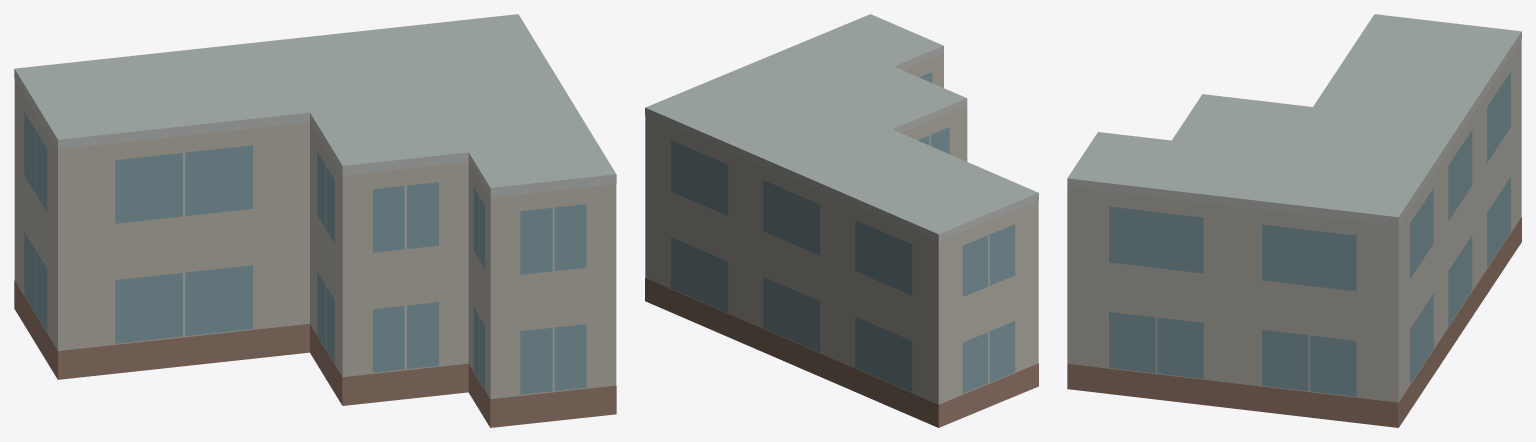
File: survey-upis-32889468.glb
3 views of the same model, side by side, from view 1: azimuth 30°, elevation 25°; view 2: azimuth 150°, elevation 25°; view 3: azimuth 270°, elevation 25° (orthographic). The views are drawn at different scales.
Parts seen in each view (by area): view 1: survey-upis-32889468.tmp; view 2: survey-upis-32889468.tmp; view 3: survey-upis-32889468.tmp.
Part boxes in pixels (x1=…): survey-upis-32889468.tmp: x1=14, y1=14, x2=616, y2=427; survey-upis-32889468.tmp: x1=645, y1=14, x2=1038, y2=427; survey-upis-32889468.tmp: x1=1067, y1=14, x2=1521, y2=427.
Size of the model in its own units: 12.63 by 6.1 by 11.94.
